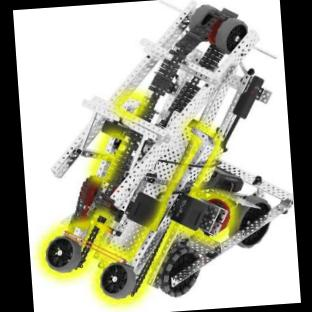Robot: (44, 1, 292, 298)
